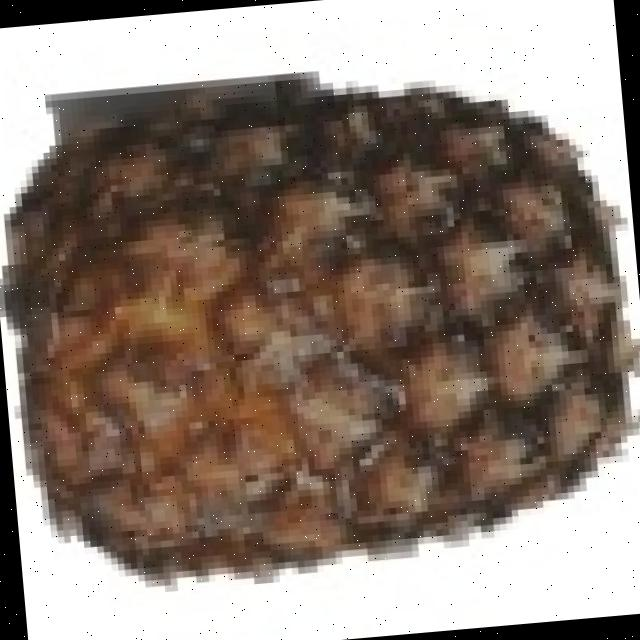pineapple: (23, 90, 639, 590)
